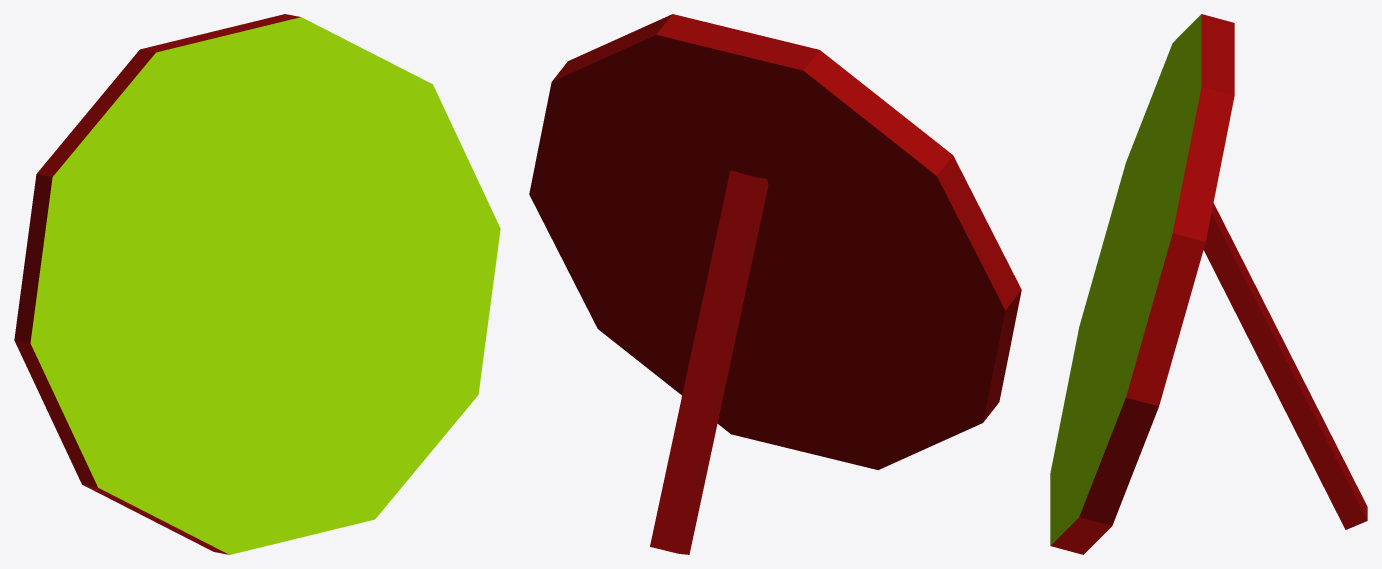
Rendered from card board cutout.fbx.
The picture shows the model from 3 angles, left to right: view 1: azimuth 30°, elevation 25°; view 2: azimuth 150°, elevation 25°; view 3: azimuth 270°, elevation 25°; orthographic projection. The views are drawn at different scales.
Parts seen in each view (by area): view 1: front_cardboard_cutout; view 2: front_cardboard_cutout, stilt; view 3: front_cardboard_cutout, stilt.
Part boxes in pixels (bbox=[...]): front_cardboard_cutout: bbox=[14, 14, 500, 554]; front_cardboard_cutout: bbox=[529, 14, 1021, 469]; stilt: bbox=[650, 171, 768, 554]; front_cardboard_cutout: bbox=[1050, 14, 1234, 554]; stilt: bbox=[1203, 203, 1367, 529].
Bounding box in the file's own units: 2 × 1.88 × 1.14.
